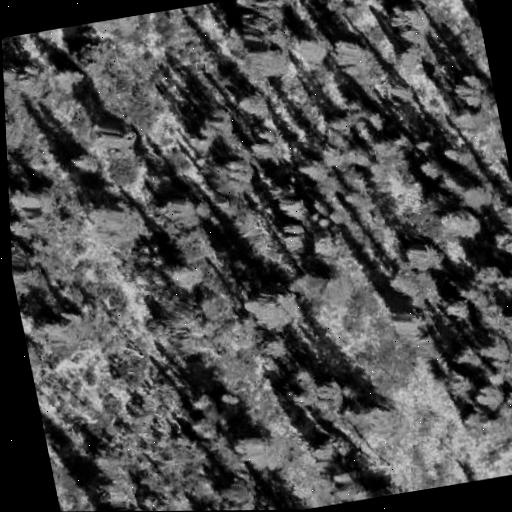tree-top: (237, 268, 309, 333), (450, 324, 512, 389), (26, 292, 91, 351), (236, 22, 299, 79), (224, 420, 287, 476), (86, 196, 149, 249), (10, 170, 69, 225), (325, 371, 387, 422), (199, 145, 257, 199), (159, 288, 218, 341), (303, 251, 358, 306), (397, 229, 450, 280), (330, 32, 383, 81), (444, 64, 493, 112), (382, 0, 433, 46), (307, 214, 354, 262), (160, 179, 209, 225), (61, 30, 109, 76), (89, 112, 140, 155), (190, 95, 238, 140), (287, 146, 335, 189), (4, 54, 49, 99), (438, 201, 480, 243), (409, 149, 450, 191), (302, 426, 343, 465), (227, 82, 269, 118), (66, 145, 104, 183), (272, 189, 309, 228), (438, 292, 475, 327), (285, 361, 321, 396), (4, 97, 29, 146), (468, 255, 500, 288), (107, 14, 144, 41), (184, 386, 215, 417), (492, 267, 512, 300), (376, 480, 409, 497), (103, 501, 154, 511), (184, 499, 218, 511), (361, 0, 393, 5)
